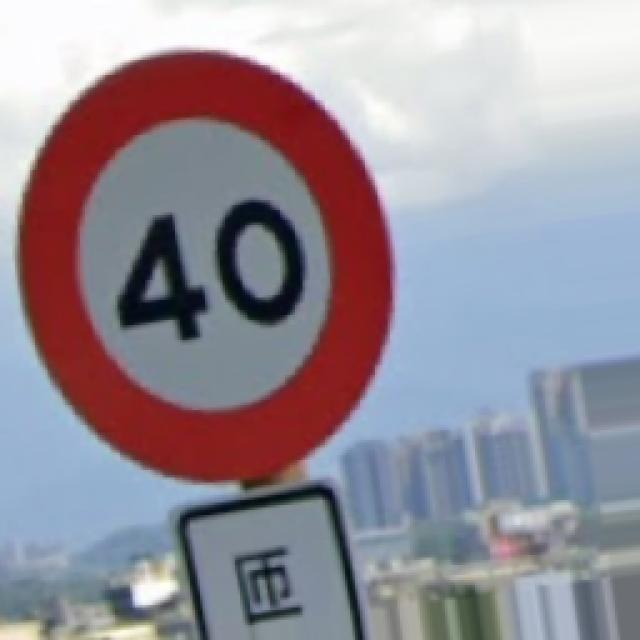Speed Limit -40-: (20, 52, 390, 480)
